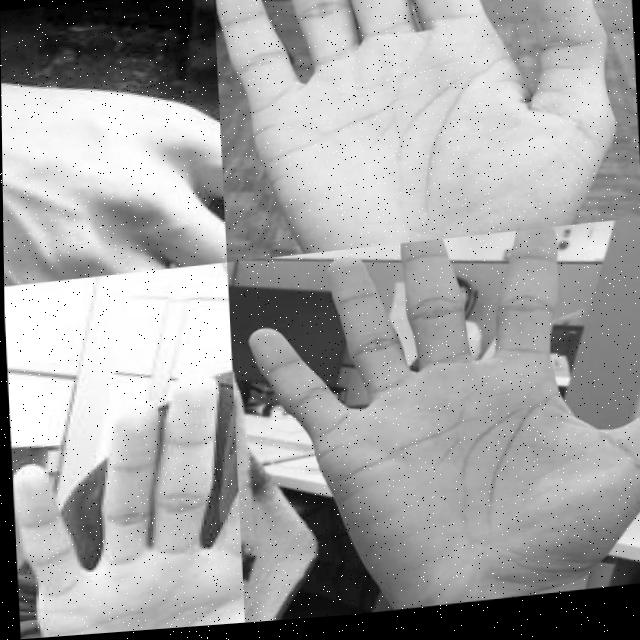hand: (244, 226, 640, 626), (214, 0, 617, 266), (6, 372, 242, 640), (1, 36, 225, 286)
